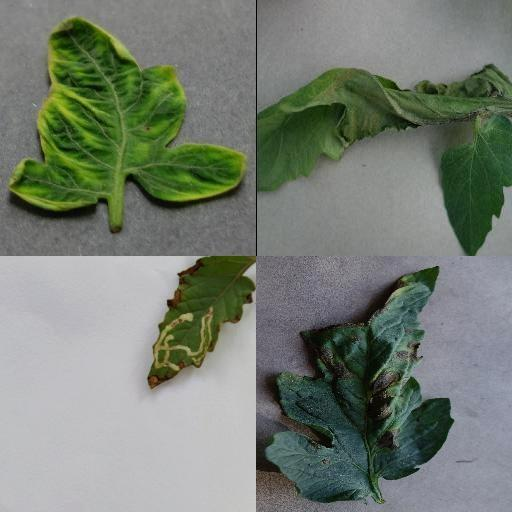Early Blight: (264, 267, 455, 505)
Healthy: (436, 115, 512, 256)
Late Blight: (256, 65, 512, 193)
Leaf Miner: (146, 256, 256, 391)
Yellow Leaf Curl Virus: (8, 16, 248, 212)
